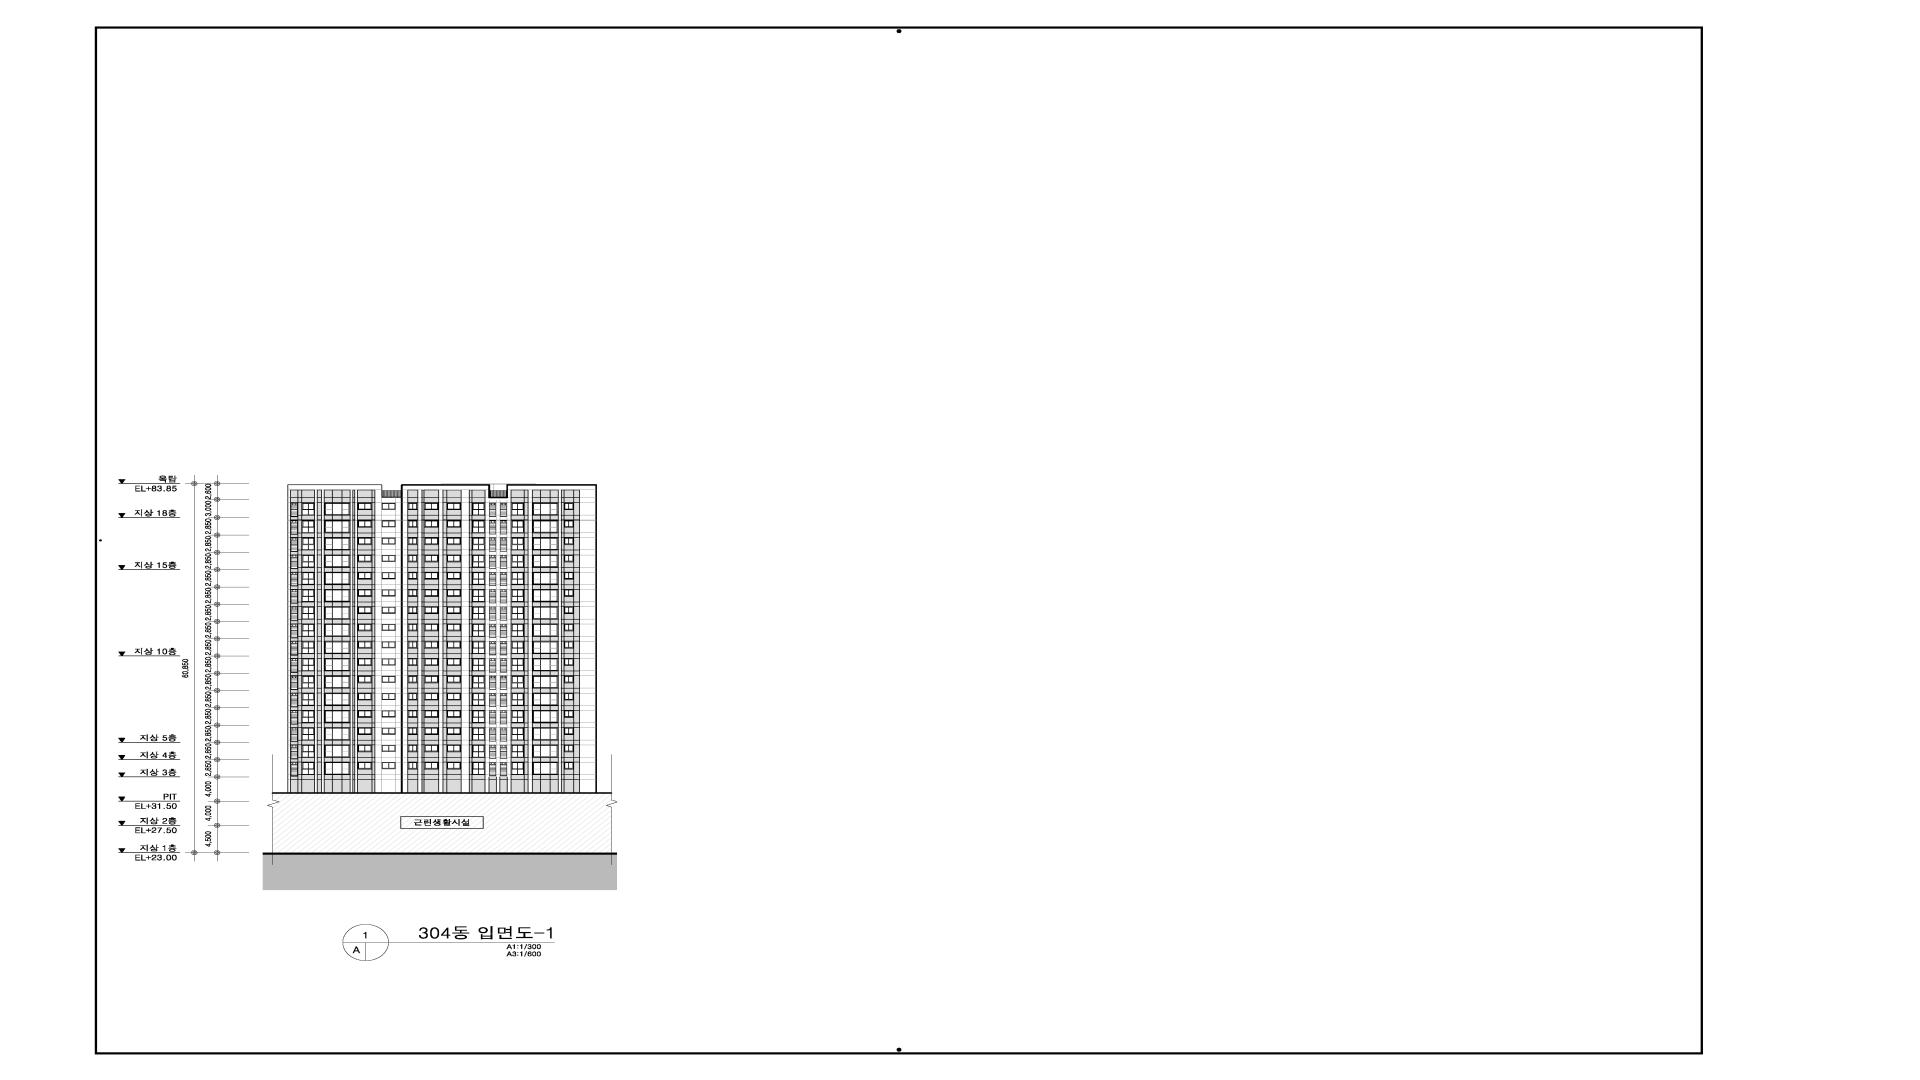wall: (272, 484, 612, 855)
window: (323, 694, 351, 707), (323, 641, 351, 654), (323, 624, 351, 637), (323, 572, 351, 585), (531, 762, 559, 775), (531, 745, 559, 758), (531, 728, 559, 741), (531, 641, 559, 654), (531, 624, 559, 637), (531, 607, 559, 620), (531, 572, 559, 585), (531, 555, 559, 568), (531, 537, 559, 550), (531, 502, 559, 516), (324, 711, 351, 724), (324, 675, 351, 688), (324, 658, 351, 671), (324, 607, 351, 620), (324, 589, 351, 603), (324, 555, 351, 568), (324, 537, 351, 550), (324, 520, 351, 533), (324, 502, 351, 516), (531, 658, 558, 671), (533, 675, 559, 688), (533, 589, 559, 603), (533, 520, 559, 533), (324, 762, 351, 775), (531, 711, 559, 723), (531, 694, 559, 705), (324, 745, 351, 757), (324, 728, 351, 740), (472, 727, 485, 741), (301, 762, 315, 775), (301, 675, 315, 688), (302, 537, 315, 550), (302, 520, 315, 533), (302, 502, 315, 516), (472, 762, 485, 775), (472, 745, 485, 758), (472, 675, 485, 688), (472, 658, 485, 671), (472, 641, 485, 654), (472, 624, 485, 637), (472, 555, 485, 568), (472, 537, 485, 550), (472, 520, 485, 533), (471, 502, 484, 516), (512, 762, 525, 775), (512, 745, 525, 758), (512, 728, 525, 741), (512, 709, 525, 723), (512, 675, 525, 688), (512, 658, 525, 671), (512, 641, 525, 654), (512, 624, 525, 637), (512, 607, 525, 620), (512, 589, 525, 603), (512, 572, 525, 585), (512, 555, 525, 568), (512, 537, 525, 550), (512, 520, 525, 533), (512, 502, 525, 516), (302, 555, 315, 568), (302, 745, 315, 758), (302, 728, 315, 741), (302, 709, 315, 723), (302, 658, 315, 671), (302, 641, 315, 654), (302, 624, 315, 637), (302, 607, 315, 620), (302, 589, 315, 603), (302, 572, 315, 585), (301, 694, 315, 705), (472, 709, 484, 723), (472, 694, 485, 705), (472, 607, 484, 620), (472, 589, 484, 603), (472, 572, 484, 585), (512, 694, 525, 705), (447, 727, 462, 735), (447, 709, 462, 717), (447, 658, 462, 666), (447, 641, 462, 649), (447, 624, 462, 632), (447, 607, 462, 615), (447, 572, 462, 580), (447, 520, 462, 527), (447, 502, 462, 510), (447, 537, 462, 545), (447, 675, 462, 683), (425, 658, 439, 666), (425, 641, 439, 649), (425, 624, 439, 632), (425, 607, 439, 615), (425, 589, 439, 597), (425, 520, 439, 527), (425, 502, 439, 510), (425, 537, 439, 545), (425, 675, 439, 683), (357, 727, 372, 735), (357, 709, 372, 717), (357, 658, 372, 666), (357, 641, 372, 649), (357, 624, 372, 632), (357, 607, 372, 615), (290, 762, 298, 777), (290, 727, 298, 741), (290, 675, 298, 690), (290, 658, 298, 673), (290, 641, 298, 655), (290, 589, 298, 604), (290, 572, 298, 587), (290, 555, 298, 570), (290, 624, 298, 638), (290, 607, 298, 621), (290, 537, 298, 551), (290, 520, 298, 534), (290, 502, 298, 517), (500, 762, 508, 777), (447, 762, 462, 770), (357, 589, 372, 597), (357, 520, 372, 527), (357, 502, 372, 510), (357, 537, 372, 545), (357, 675, 372, 683), (500, 675, 508, 690), (500, 658, 508, 673), (500, 641, 508, 655), (500, 624, 508, 638), (500, 607, 508, 621), (500, 589, 508, 604), (500, 502, 508, 517), (290, 745, 298, 758), (290, 711, 298, 724), (290, 694, 298, 707), (500, 745, 508, 758), (500, 728, 508, 741), (500, 711, 508, 724), (500, 694, 508, 707), (500, 572, 508, 585), (500, 555, 508, 568), (500, 538, 508, 551), (447, 589, 462, 596), (447, 555, 462, 562), (447, 694, 462, 700), (425, 728, 439, 735), (425, 711, 439, 717), (425, 572, 439, 579), (425, 555, 439, 562), (425, 694, 439, 700), (357, 745, 372, 752), (489, 762, 496, 777), (357, 762, 372, 769), (425, 762, 439, 769), (425, 745, 439, 752), (447, 745, 462, 752), (357, 572, 372, 579), (357, 694, 372, 700), (357, 555, 372, 562), (381, 762, 396, 769), (381, 745, 396, 752), (381, 728, 396, 735), (381, 711, 396, 717), (381, 694, 396, 700), (381, 676, 396, 683), (381, 624, 396, 630), (381, 607, 396, 613), (381, 589, 396, 596), (381, 572, 396, 579), (381, 555, 396, 562), (381, 538, 396, 545), (381, 521, 396, 527), (381, 502, 396, 509), (489, 675, 496, 690), (489, 658, 496, 673), (489, 641, 496, 655), (489, 624, 496, 638), (489, 607, 496, 621), (489, 589, 496, 604), (489, 520, 496, 534), (500, 520, 506, 534), (489, 502, 496, 517), (489, 745, 496, 758), (489, 728, 496, 741), (489, 711, 496, 724), (489, 694, 496, 707), (489, 572, 496, 585), (489, 555, 496, 568), (489, 538, 496, 551), (407, 537, 418, 545), (563, 641, 574, 649), (563, 624, 574, 632), (563, 607, 574, 615), (563, 589, 574, 597), (563, 520, 574, 527), (563, 537, 574, 545), (563, 675, 574, 683), (381, 659, 396, 665), (381, 642, 396, 647), (407, 520, 417, 527), (407, 502, 417, 510), (407, 675, 417, 683), (564, 658, 574, 666), (564, 502, 574, 510), (407, 709, 417, 717), (407, 658, 417, 666), (407, 641, 417, 649), (407, 624, 417, 632), (407, 607, 417, 615), (563, 762, 574, 769), (563, 745, 574, 752), (563, 728, 574, 735), (563, 572, 574, 579), (563, 555, 574, 562), (563, 694, 574, 700), (407, 555, 417, 562), (407, 694, 417, 700), (564, 711, 574, 717), (407, 762, 417, 769), (407, 745, 417, 752), (407, 728, 417, 735), (407, 589, 417, 596), (407, 572, 417, 579)
